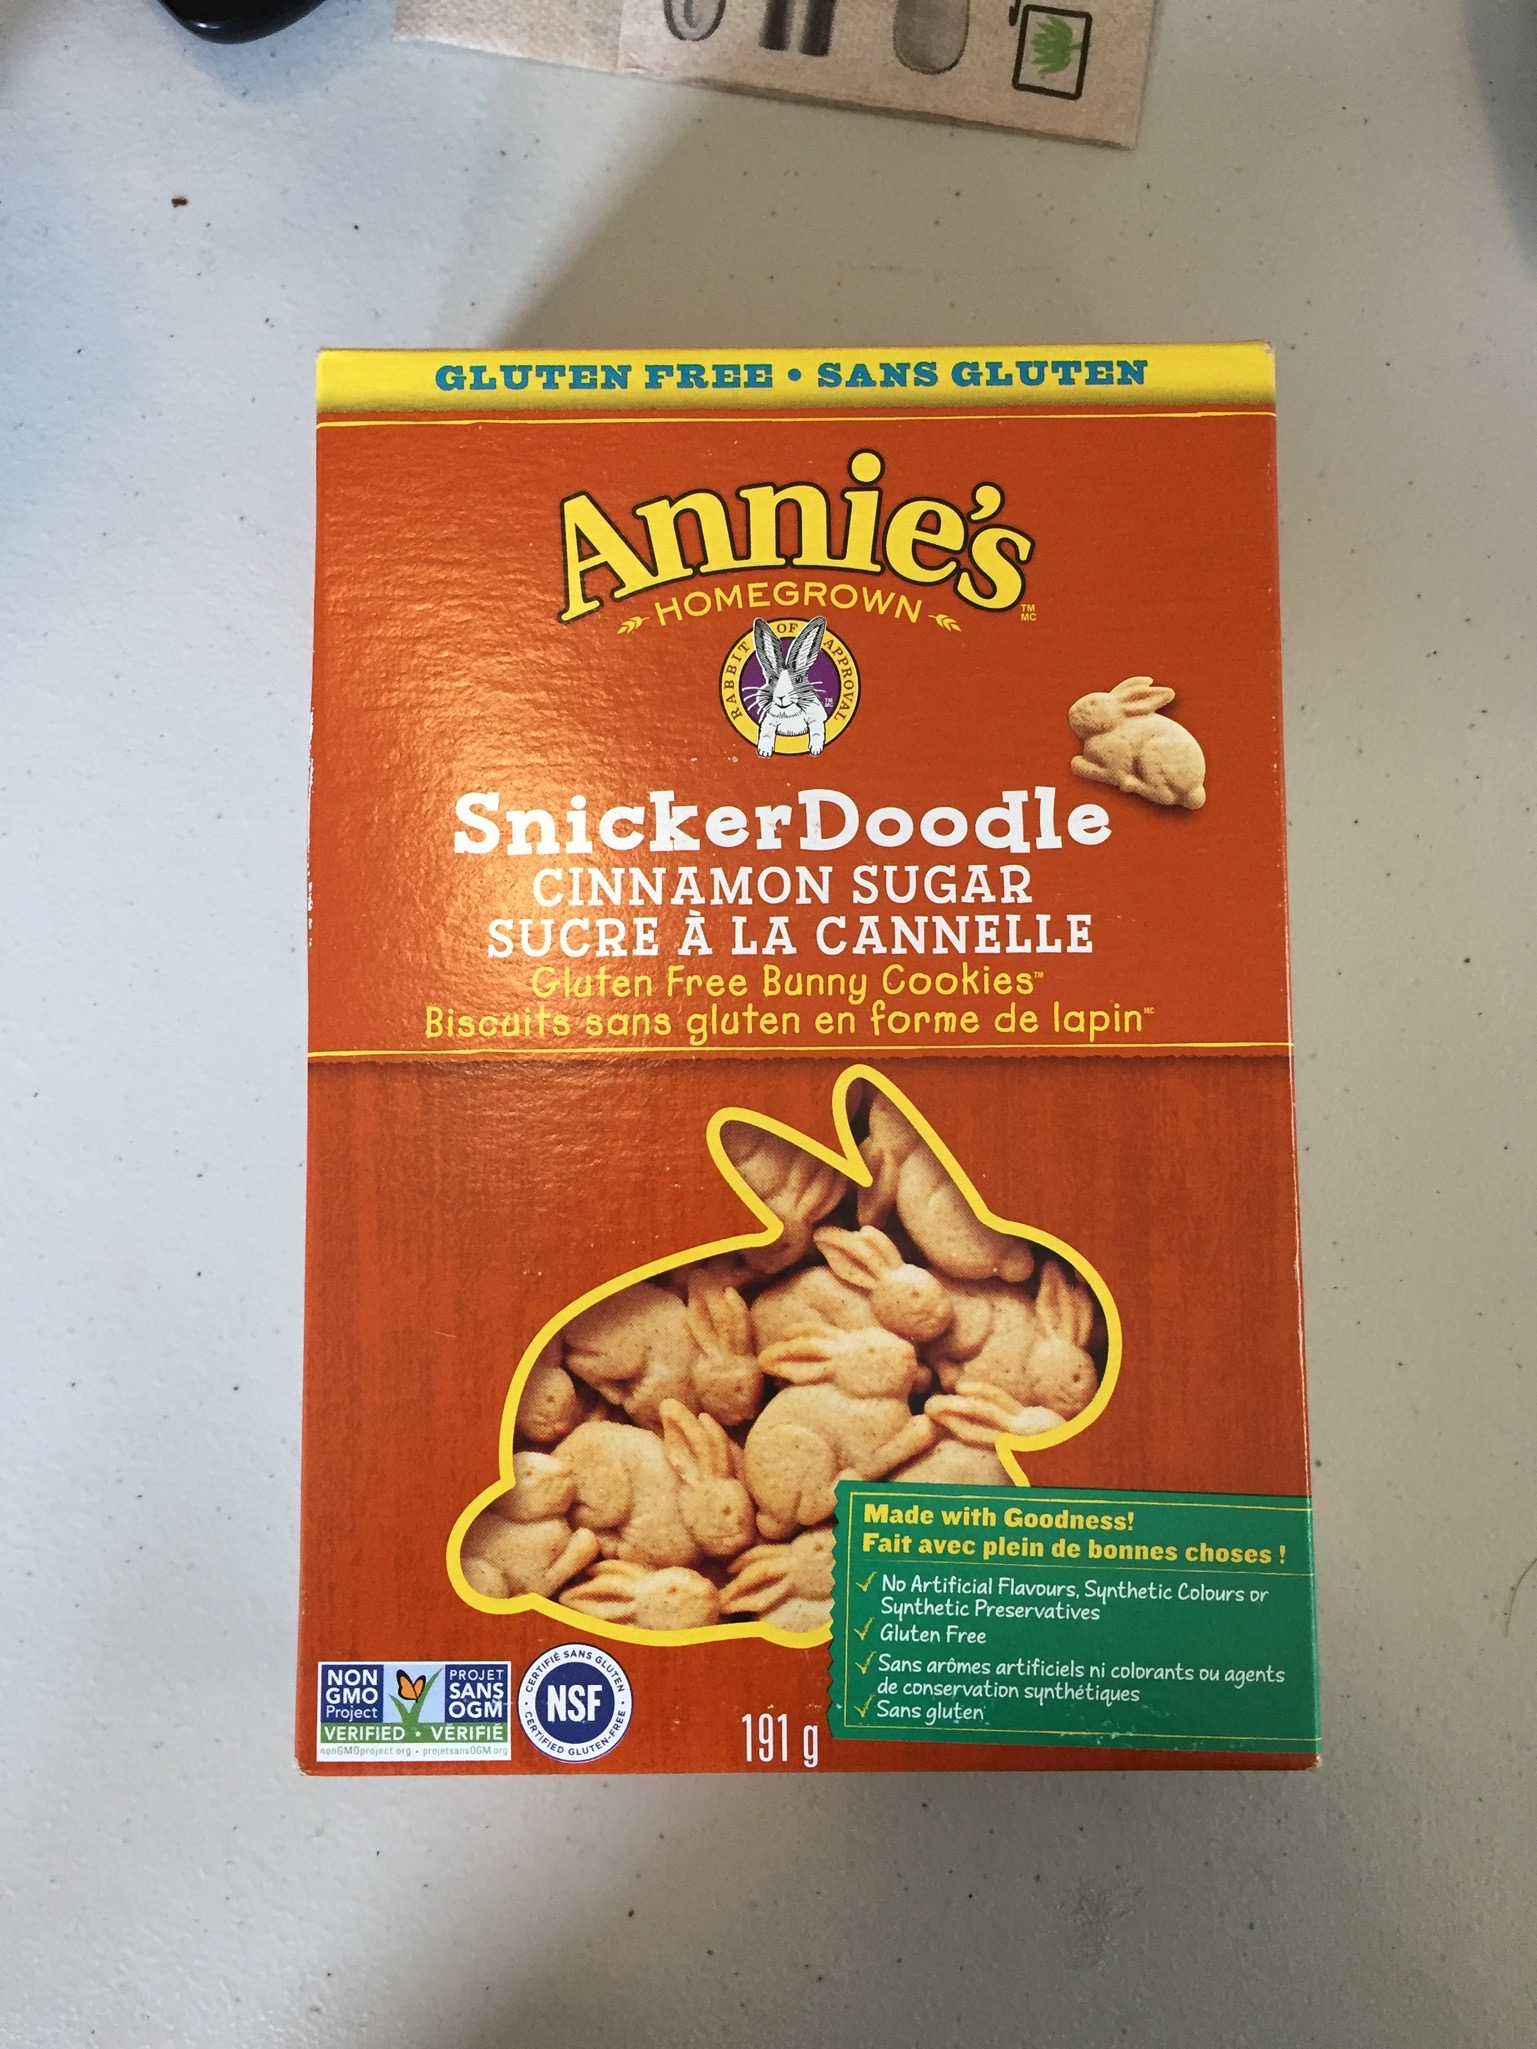annies_snickerdoodle_cinnamon_sugar: (328, 358, 1309, 1778)
